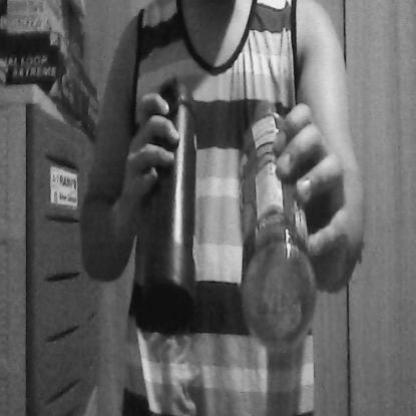Plastic Bottle: (231, 77, 323, 361)
